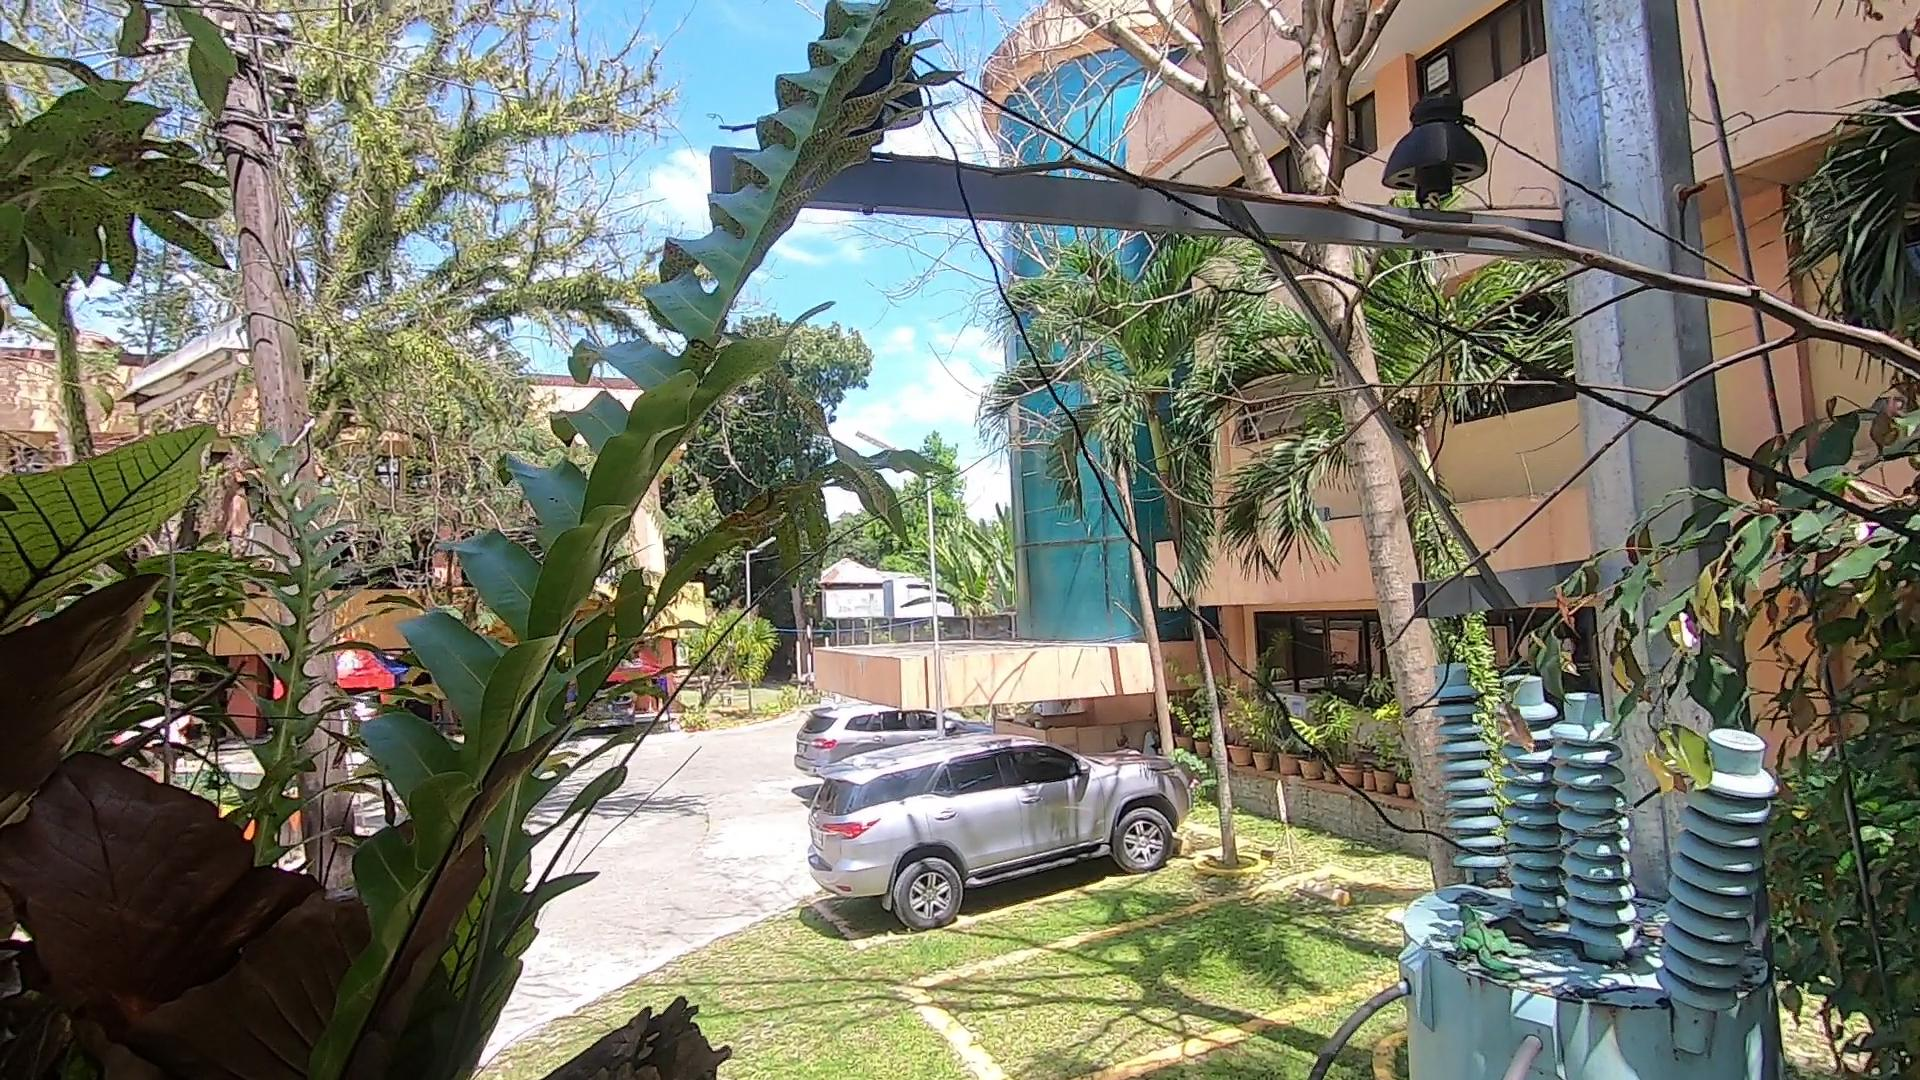leaf: (1482, 902, 1540, 942)
tree branch: (717, 21, 1919, 748)
